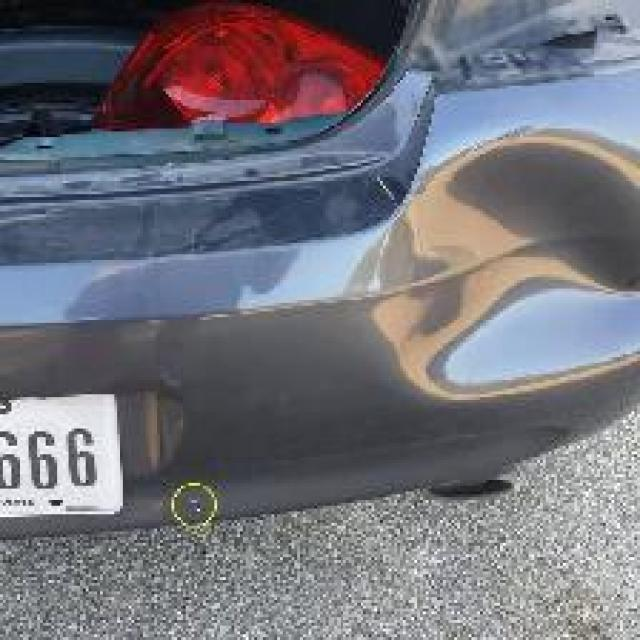damaged: (366, 128, 638, 406), (180, 491, 209, 520)
